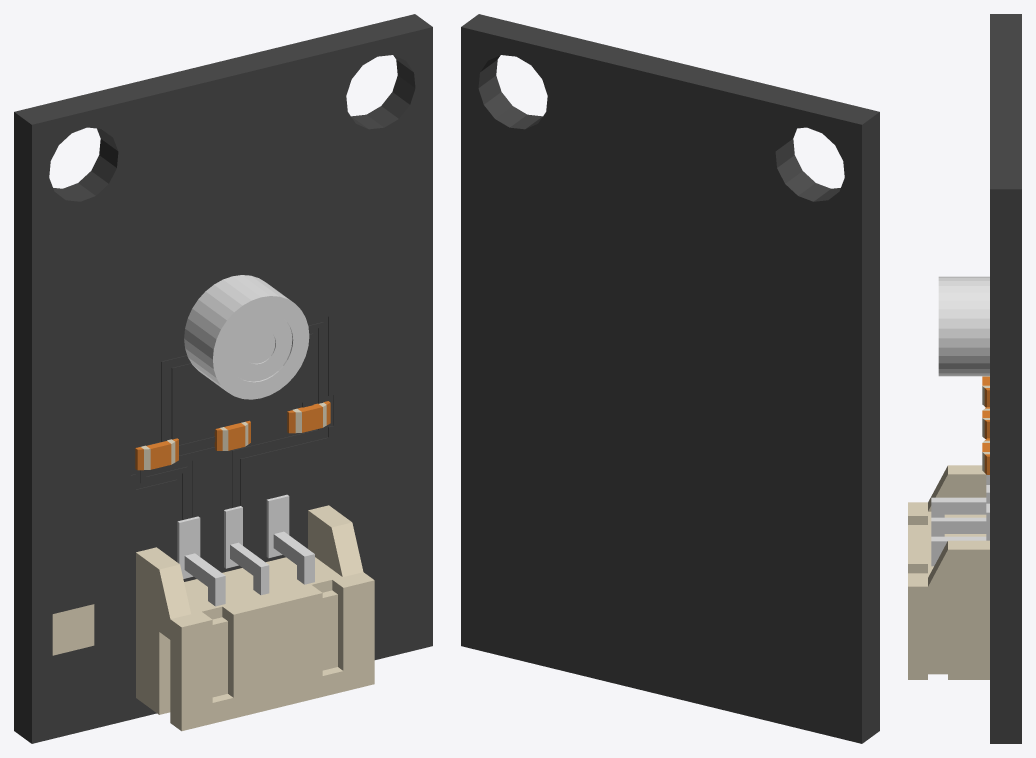
The model's file is AmbientLightSensor.glb.
3 views of the same model, side by side, from view 1: azimuth 30°, elevation 25°; view 2: azimuth 150°, elevation 25°; view 3: azimuth 270°, elevation 25° (orthographic). The views are drawn at different scales.
Parts seen in each view (by area): view 1: Ambient Light Sensor; view 2: Ambient Light Sensor; view 3: Ambient Light Sensor.
Part boxes in pixels (box(x1,y1,x2,y2)): Ambient Light Sensor: box(14, 14, 432, 743); Ambient Light Sensor: box(461, 14, 879, 743); Ambient Light Sensor: box(908, 14, 1021, 743).
Size of the model in its own units: 0.2338 by 0.3448 by 0.0641.
